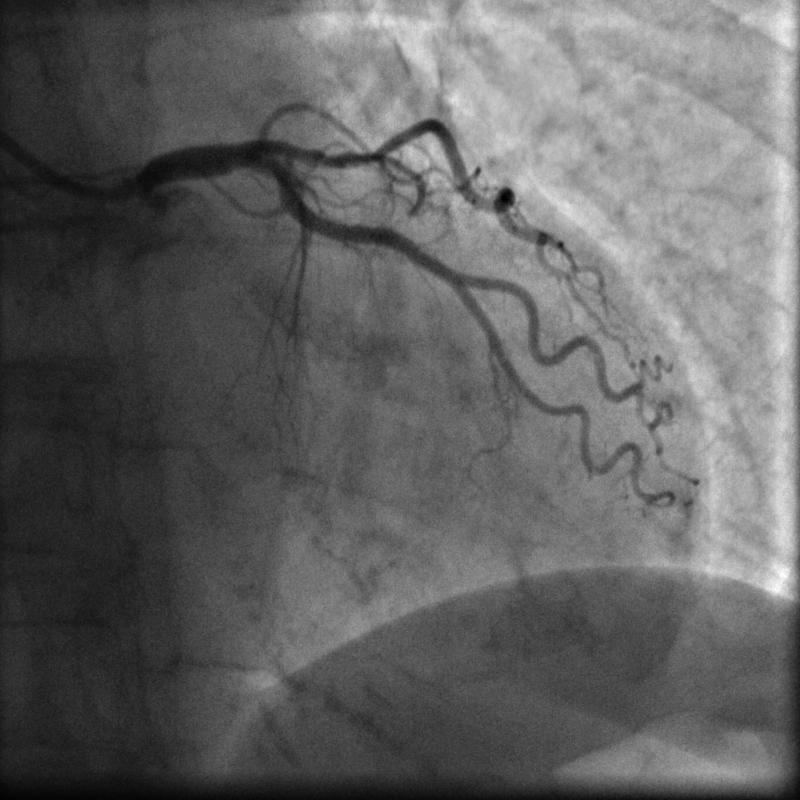Stenosis: (323, 149, 343, 167)
